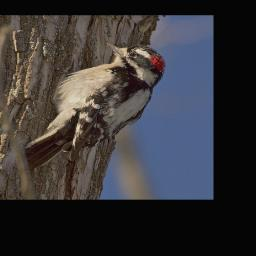Woodpecker: (24, 42, 166, 171)
